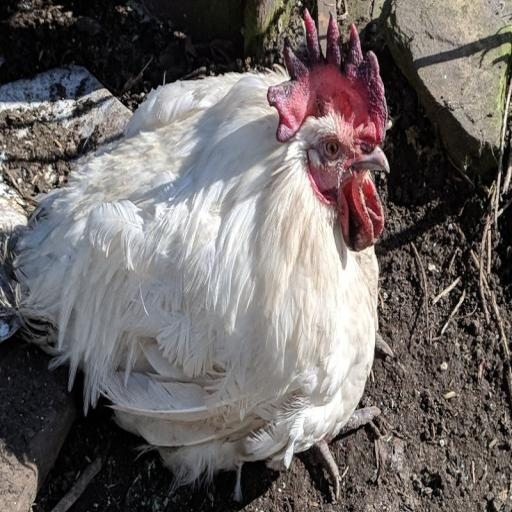disease: (271, 2, 388, 142)
